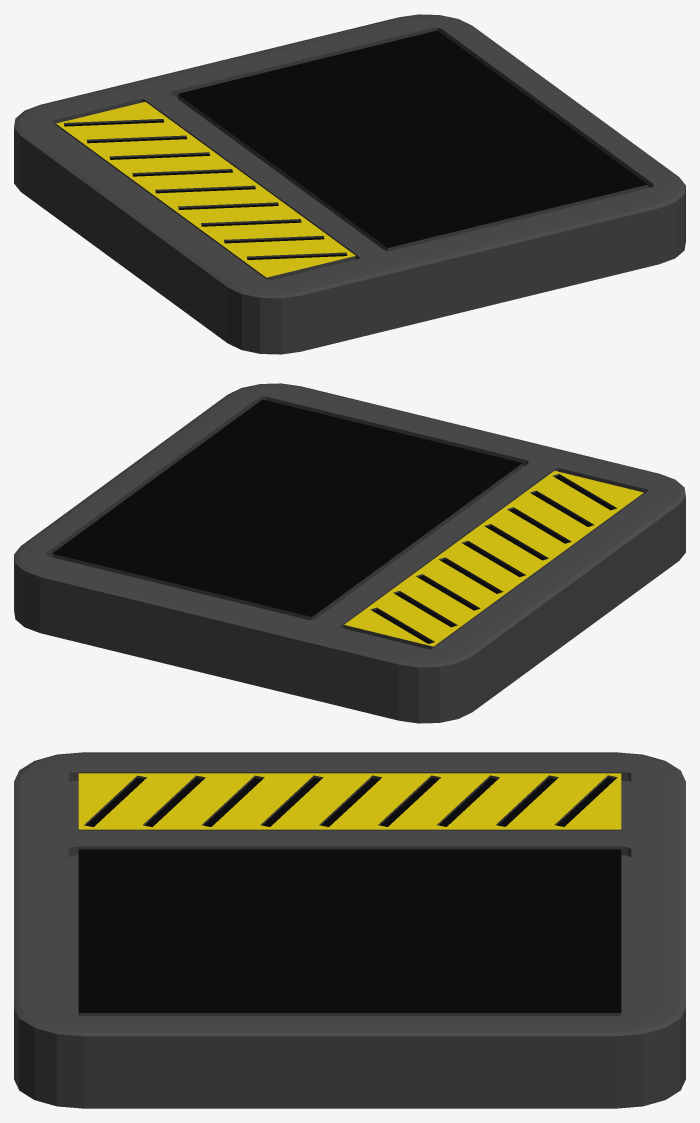
The model's file is platform_z3.1.fbx.
3 renders of one model, top to bottom at view 1: azimuth 30°, elevation 25°; view 2: azimuth 150°, elevation 25°; view 3: azimuth 270°, elevation 25°, orthographic. The views are drawn at different scales.
Parts seen in each view (by area): view 1: Cube.001; view 2: Cube.001; view 3: Cube.001.
Boxes of the visible parts, x1=… form: Cube.001: x1=14, y1=14, x2=685, y2=354; Cube.001: x1=14, y1=383, x2=685, y2=723; Cube.001: x1=14, y1=752, x2=685, y2=1108.
Size of the model in its own units: 679 by 83.28 by 679.
